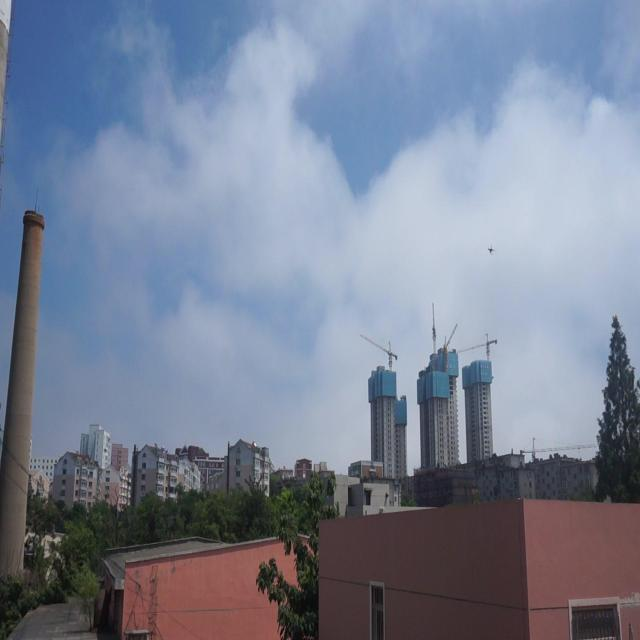drone: (485, 243, 496, 258)
